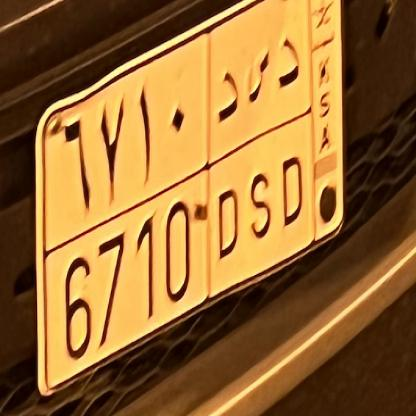english: (39, 175, 307, 381)
